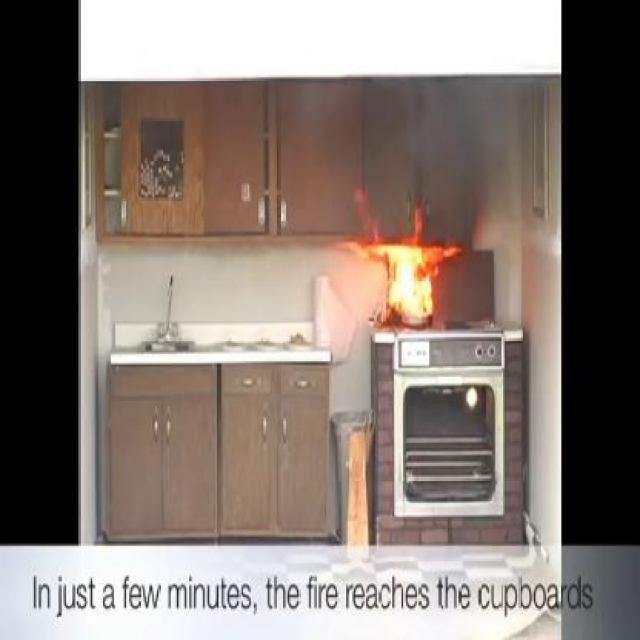fire: (344, 234, 458, 324)
